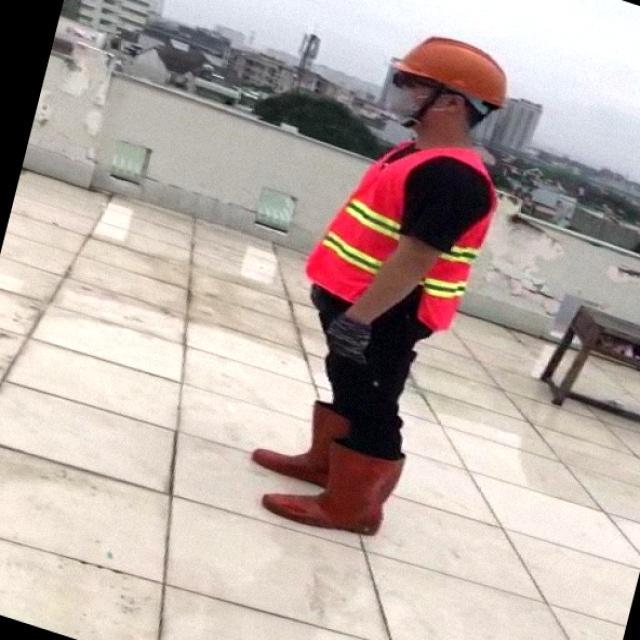helmet: (384, 36, 530, 110)
safety_vest: (304, 142, 503, 344)
